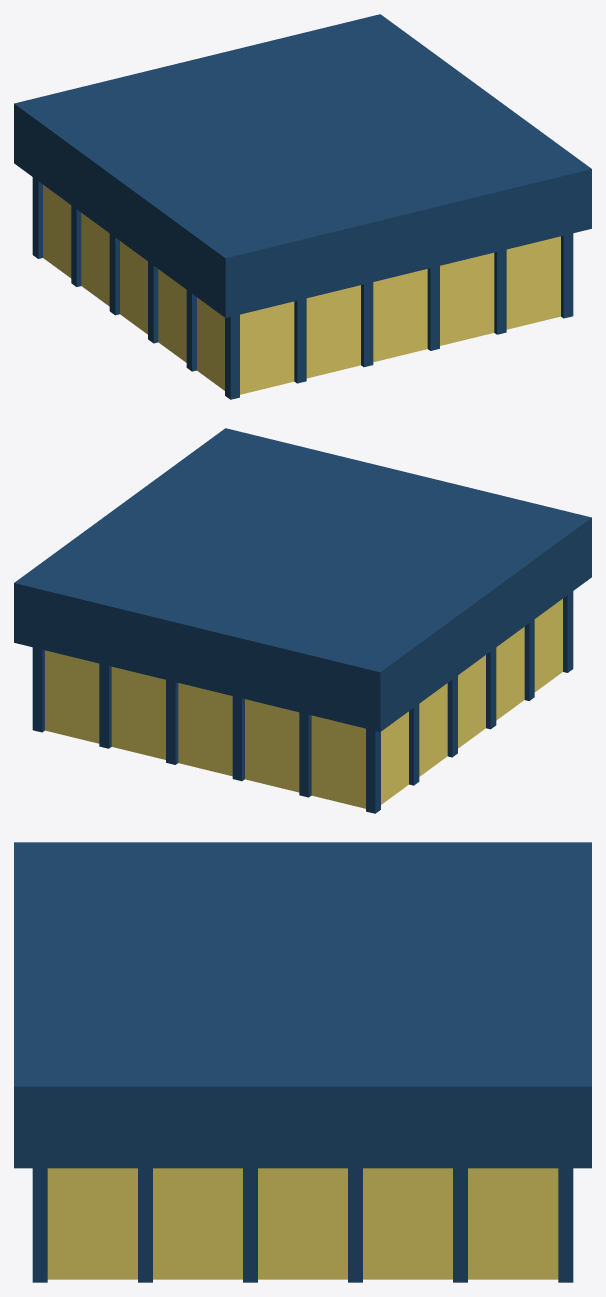
Rendered from UABCSGimnasioAuditorio.glb.
The picture shows the model from 3 angles, top to bottom: view 1: azimuth 30°, elevation 25°; view 2: azimuth 150°, elevation 25°; view 3: azimuth 270°, elevation 25°; orthographic projection. The views are drawn at different scales.
Parts seen in each view (by area): view 1: GimnasioAuditorio, Cube.022; view 2: GimnasioAuditorio, Cube.022; view 3: GimnasioAuditorio, Cube.022.
Part boxes in pixels (<box>): GimnasioAuditorio: <box>14,14,591,394</box>; Cube.022: <box>32,177,573,399</box>; GimnasioAuditorio: <box>14,428,591,808</box>; Cube.022: <box>32,591,573,813</box>; GimnasioAuditorio: <box>14,842,591,1279</box>; Cube.022: <box>32,1168,573,1282</box>.
Size of the model in its own units: 38.5 by 15 by 38.5.
1 material, 1 textured.
